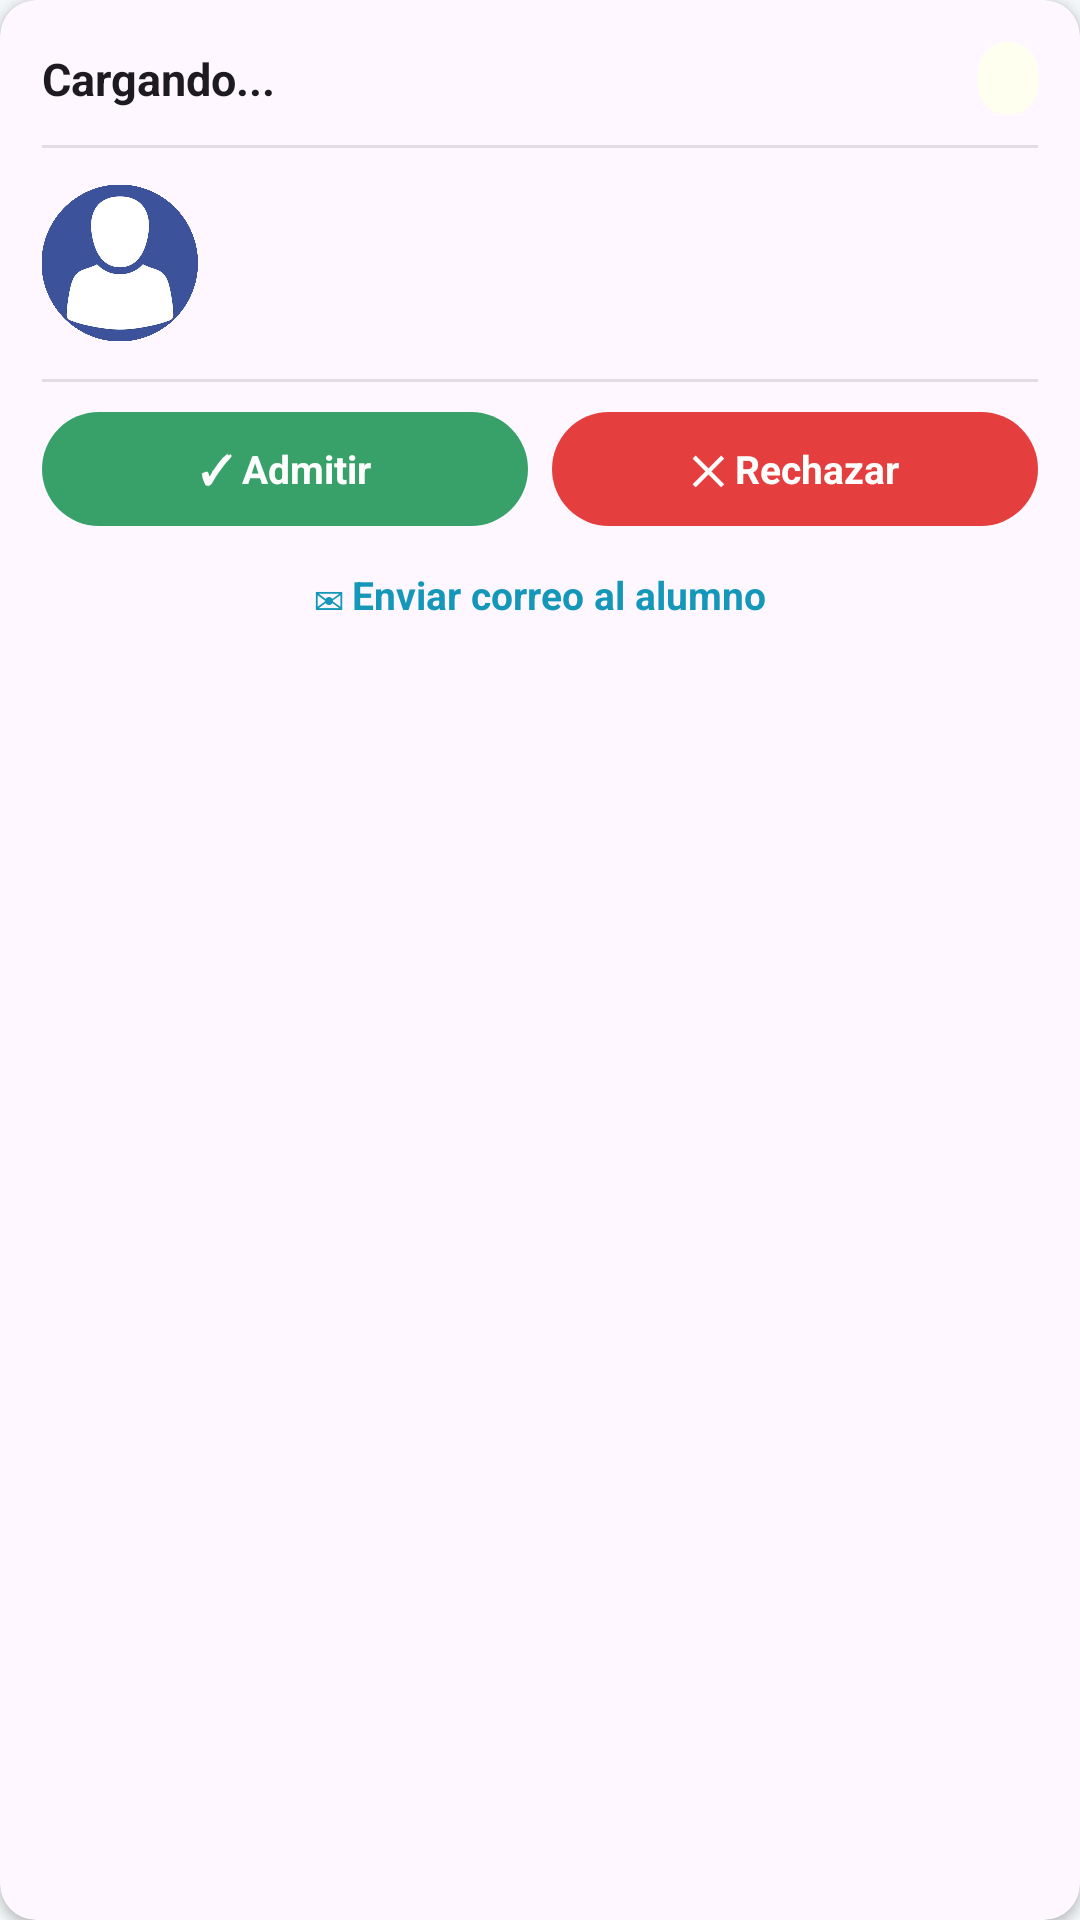

Where to tap for icons on this 1080w x 1920h app screen, as (x,y):
prederterminada: (120,263)
